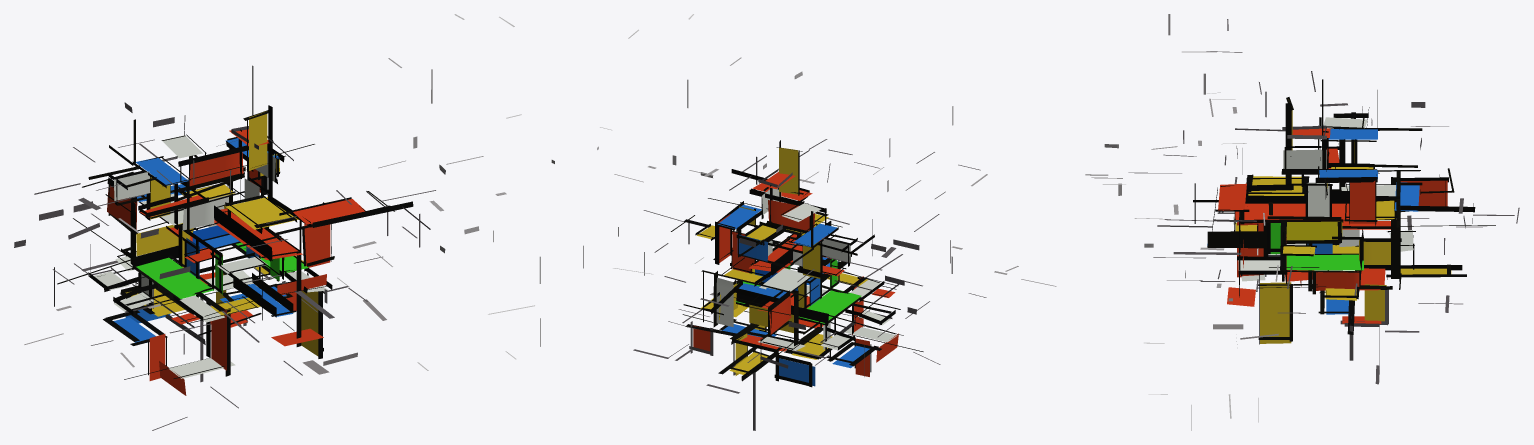
File: Rein Bijlsma.fbx
The picture shows the model from 3 angles, left to right: view 1: azimuth 30°, elevation 25°; view 2: azimuth 150°, elevation 25°; view 3: azimuth 270°, elevation 25°; orthographic projection. The views are drawn at different scales.
Visible parts, largest first — view 1: All Flat; view 2: All Flat; view 3: All Flat.
Boxes of the visible parts, box(x1,y1,x2,y2) form: All Flat: box(14, 14, 554, 430); All Flat: box(583, 14, 1056, 430); All Flat: box(1085, 14, 1519, 430).
Size of the model in its own units: 2642 by 1817 by 2010.
